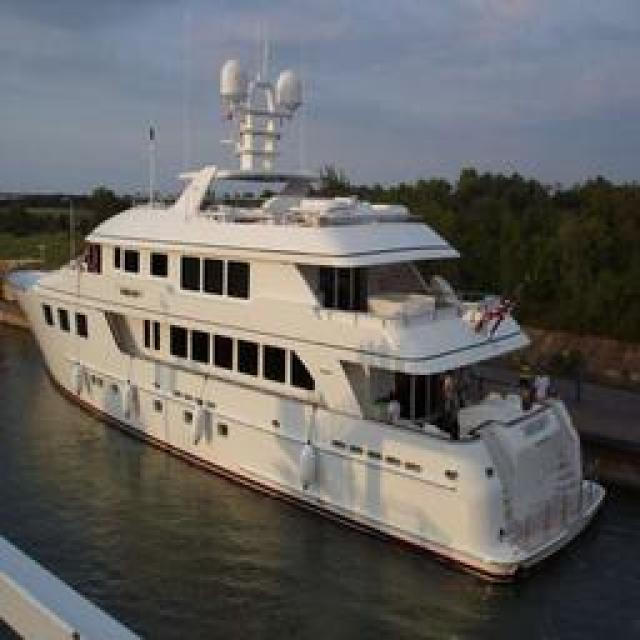CIV_Ship: (15, 119, 610, 604)
